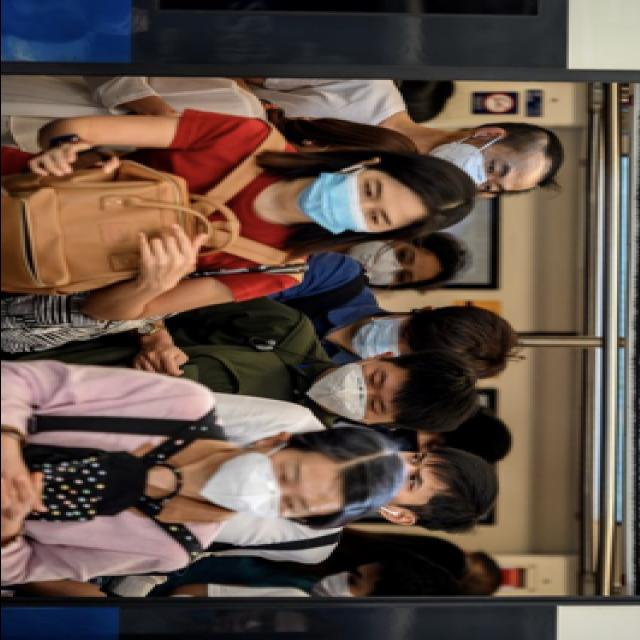mask: (190, 453, 322, 525), (296, 171, 400, 235), (298, 362, 394, 422), (430, 141, 520, 197), (346, 238, 424, 290), (352, 316, 412, 362), (308, 570, 370, 598)
